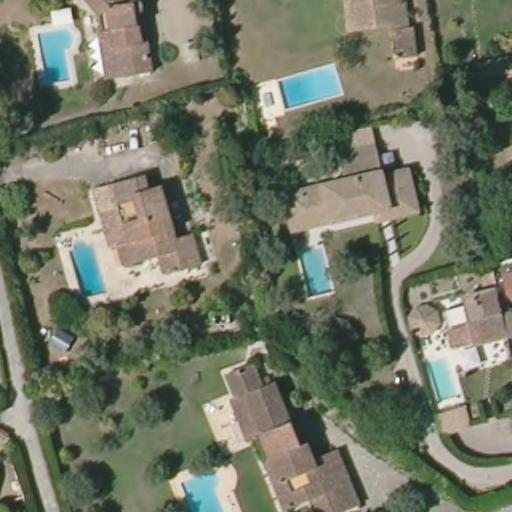pool: (271, 60, 347, 111), (35, 18, 80, 92), (69, 233, 114, 303), (170, 464, 235, 508), (422, 352, 464, 405), (297, 239, 334, 294)
